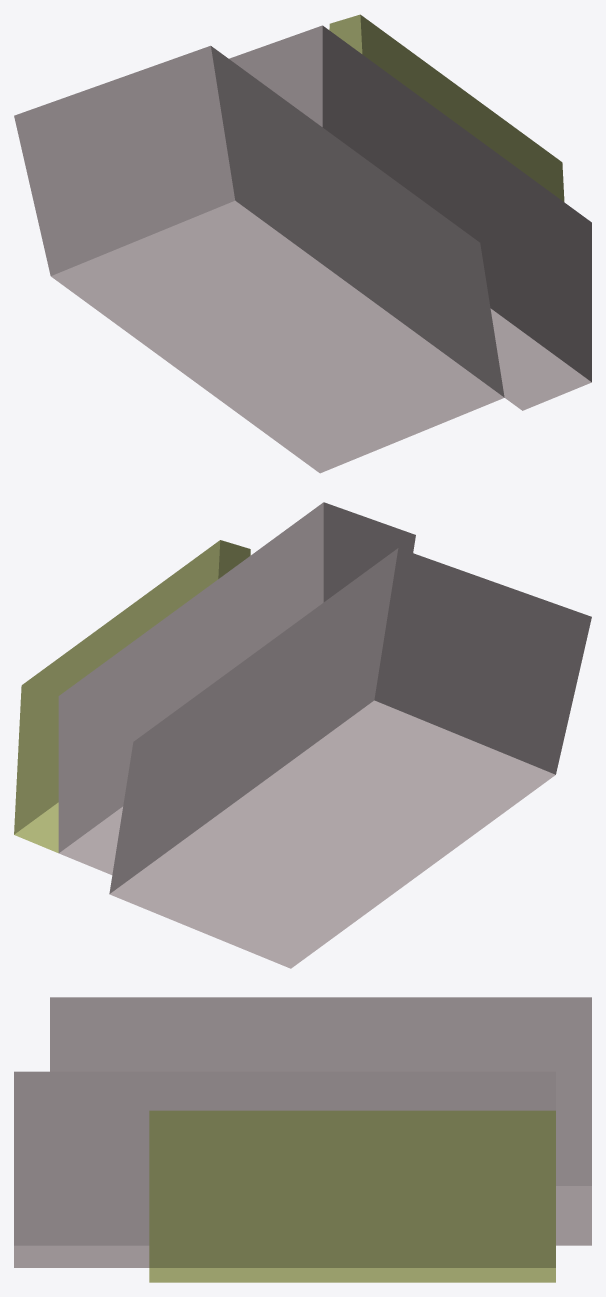
3 views of the same model, one above another, from view 1: azimuth 30°, elevation 25°; view 2: azimuth 150°, elevation 25°; view 3: azimuth 270°, elevation 25° (orthographic). The views are drawn at different scales.
Parts seen in each view (by area): view 1: 0_1_1_3_3_1_3_1_1_1_3; view 2: 0_1_1_3_3_1_3_1_1_1_3; view 3: 0_1_1_3_3_1_3_1_1_1_3.
Boxes of the visible parts, left/top/right/bottom form: 0_1_1_3_3_1_3_1_1_1_3: left=14, top=14, right=591, bottom=473; 0_1_1_3_3_1_3_1_1_1_3: left=14, top=502, right=591, bottom=968; 0_1_1_3_3_1_3_1_1_1_3: left=14, top=997, right=591, bottom=1282.
Size of the model in its own units: 8.65 by 5.01 by 12.8.
